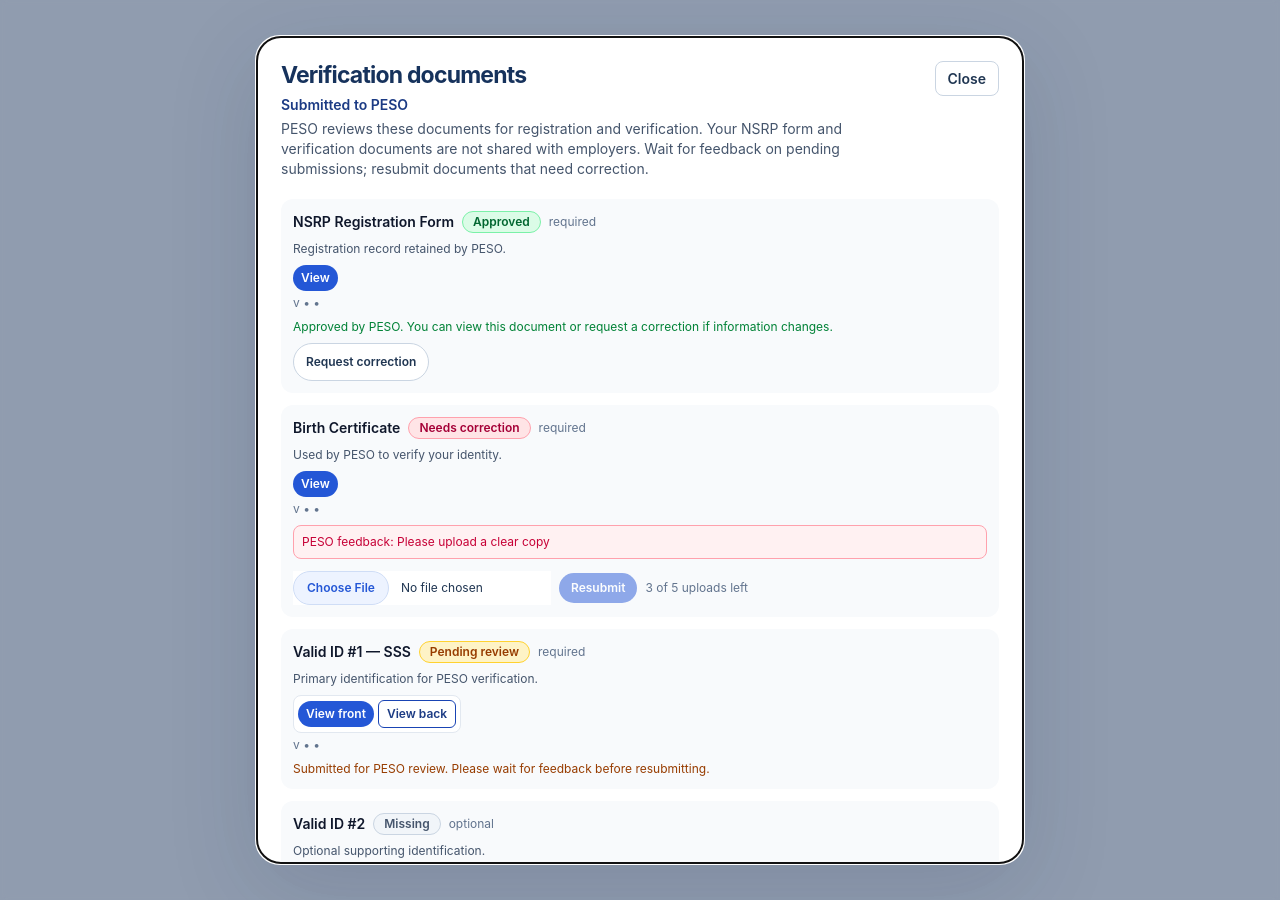
MyDocumentsModal file viewers › waits for pending review, allows rejected resubmissions, and requests corrections for approved documents
expect the text "PESO feedback: Please upload a clear copy" is shown: met, box 293,525 -> 987,559
expect the button "Resubmit" is shown: met, box 559,573 -> 637,603
Click the button "Request correction" at {"x": 361, "y": 362}, box 293,343 -> 429,381
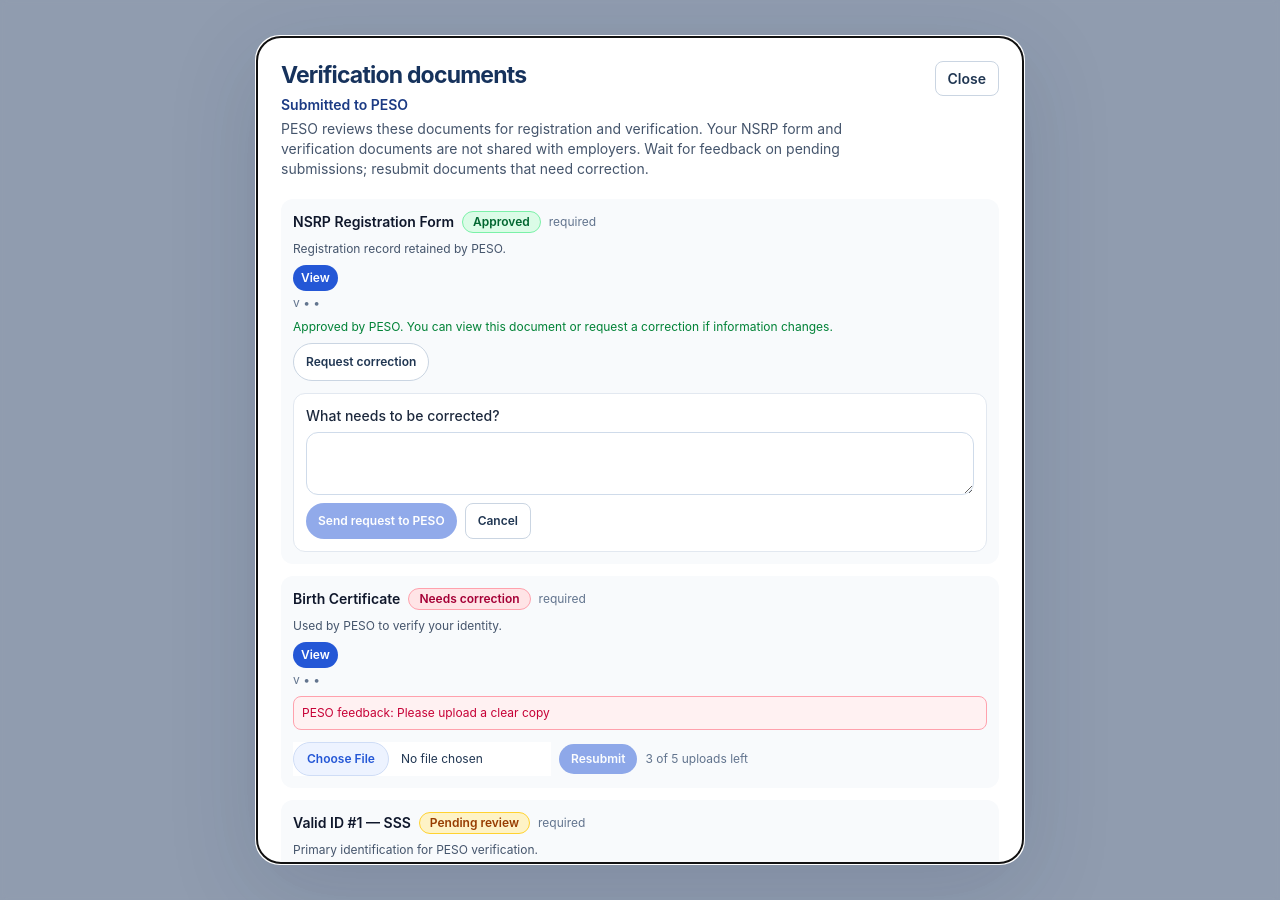
Type "My phone number has changed." into the text box labelled "What needs to be corrected?" at {"x": 640, "y": 463}, box 306,432 -> 974,495
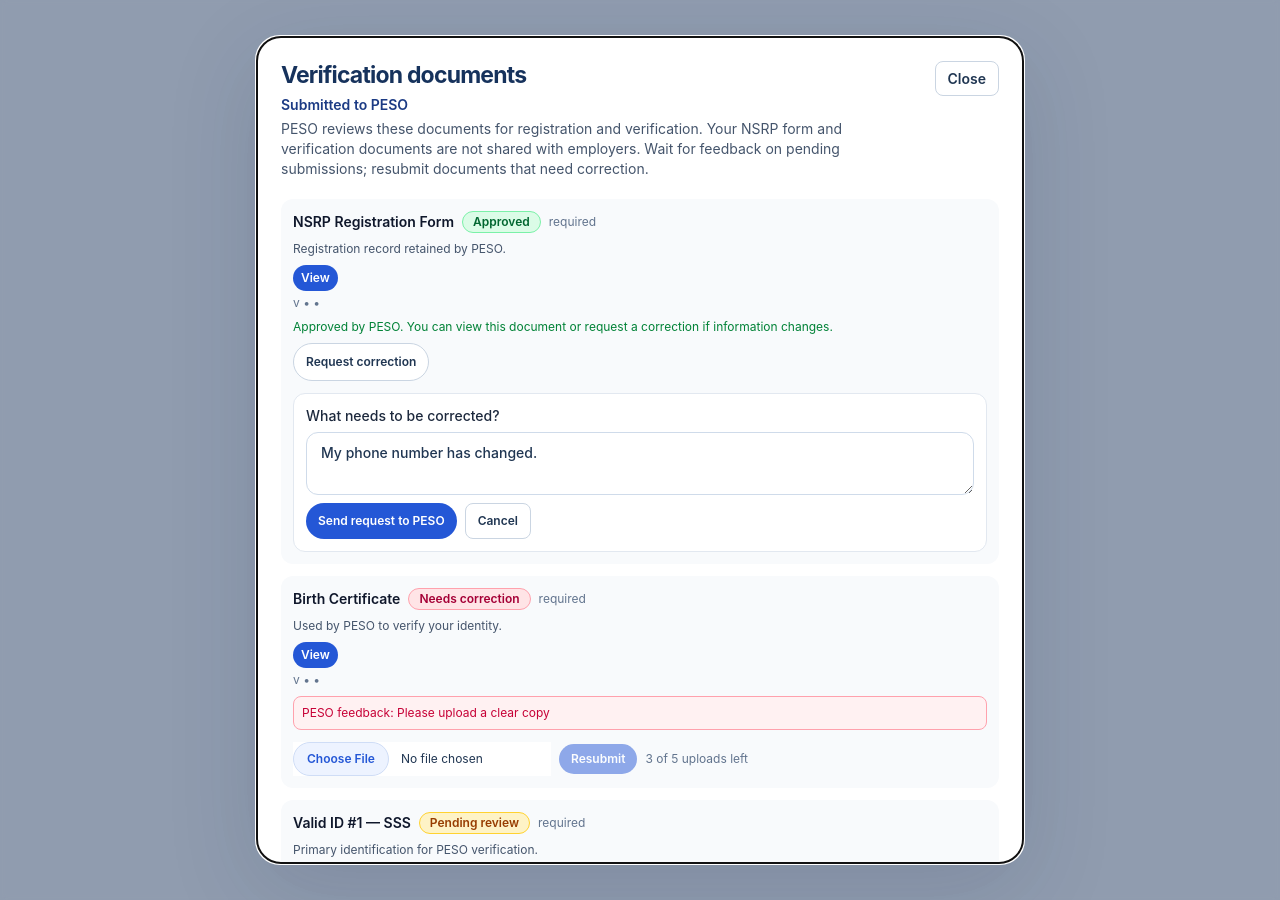
Click the button "Send request to PESO" at {"x": 381, "y": 521}, box 306,503 -> 457,539
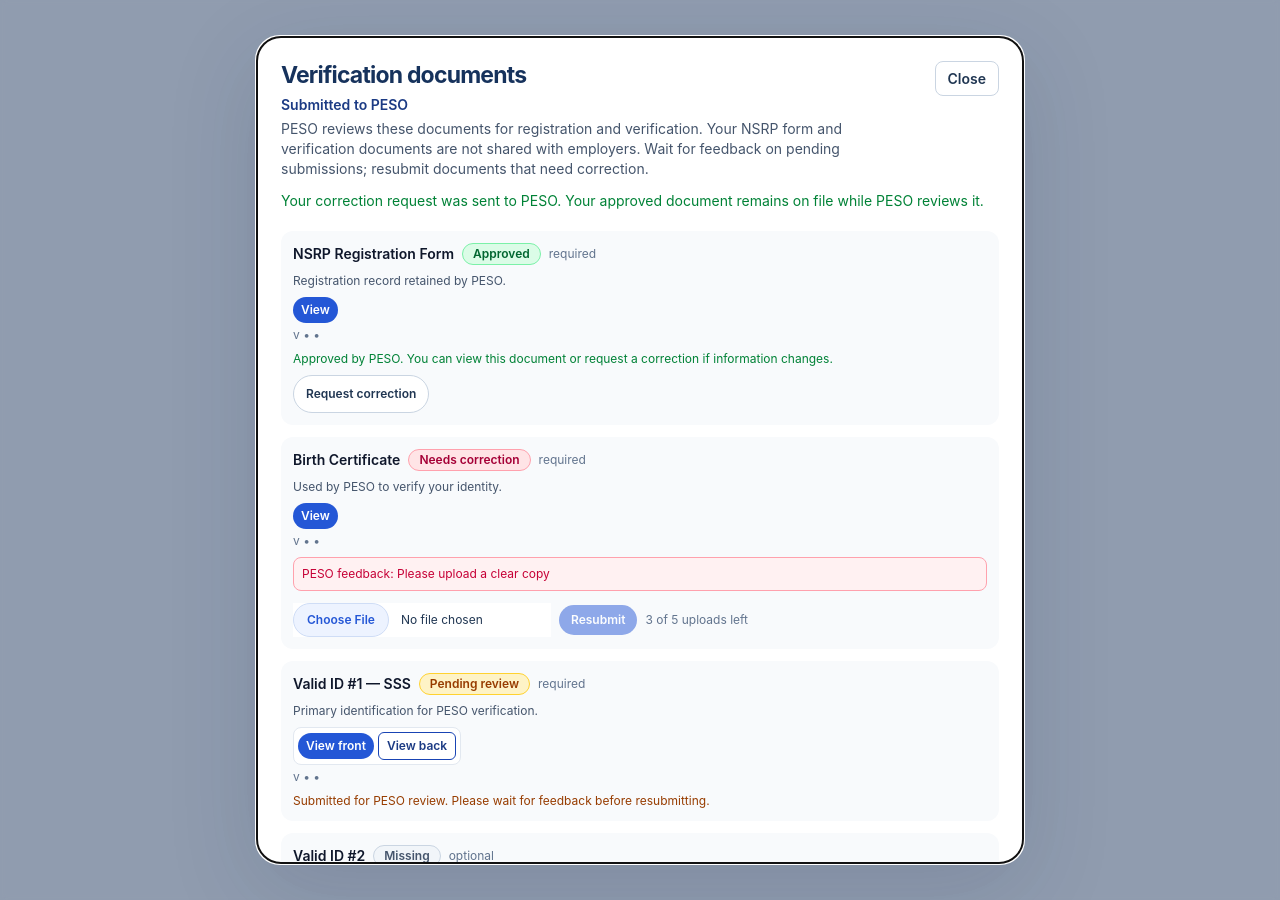
expect the text "Your correction request was sent to PESO" is shown: met, box 281,192 -> 984,209
